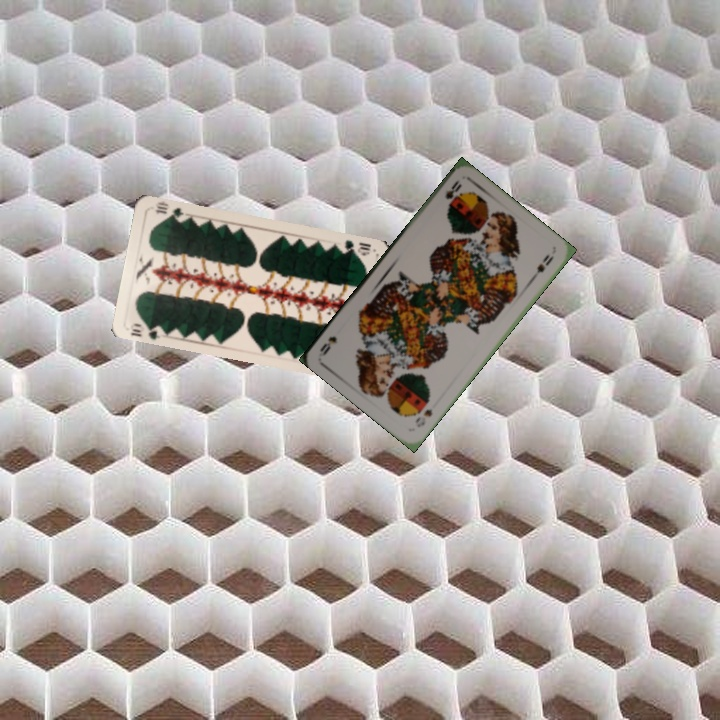G10: (126, 319, 166, 342), (340, 236, 373, 258)
SO: (441, 175, 464, 210), (411, 405, 435, 430)
